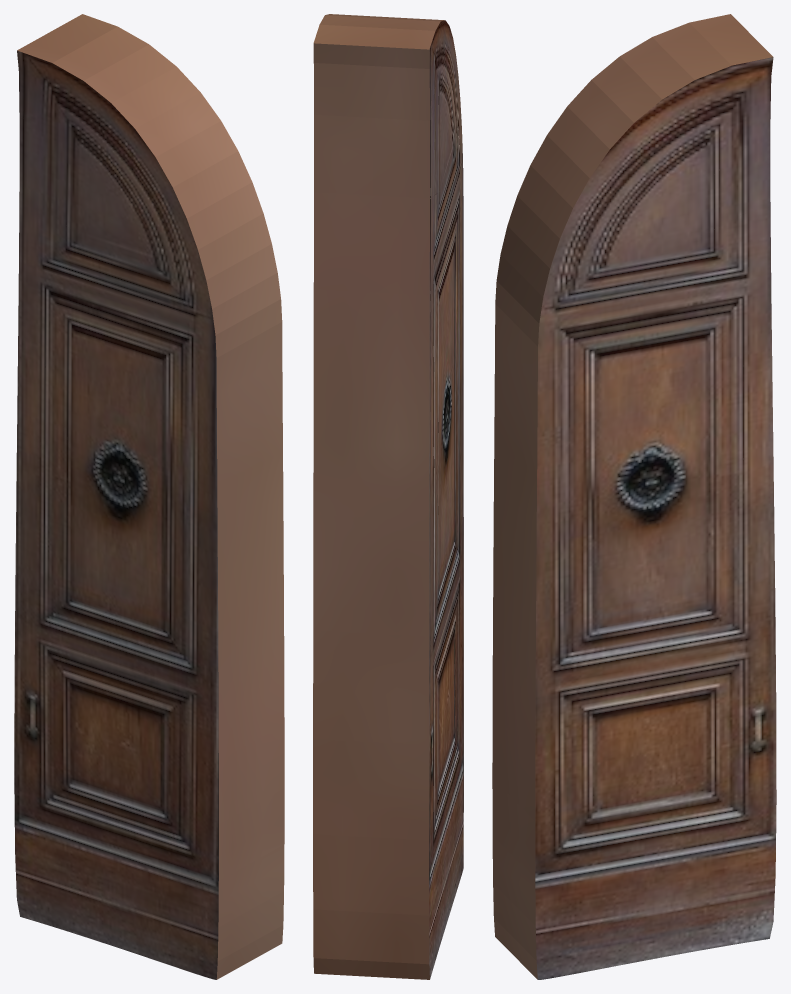
The model's file is RightDoor.glb.
3 views of the same model, side by side, from view 1: azimuth 30°, elevation 25°; view 2: azimuth 150°, elevation 25°; view 3: azimuth 270°, elevation 25° (orthographic). The views are drawn at different scales.
Parts seen in each view (by area): view 1: Right Door; view 2: Right Door; view 3: Right Door.
Boxes of the visible parts, box(x1,y1,x2,y2) form: Right Door: box(14, 14, 284, 979); Right Door: box(313, 14, 463, 979); Right Door: box(492, 14, 776, 979).
Size of the model in its own units: 0.739 by 3.54 by 1.03.
Materials: 1 (1 with a texture image).
